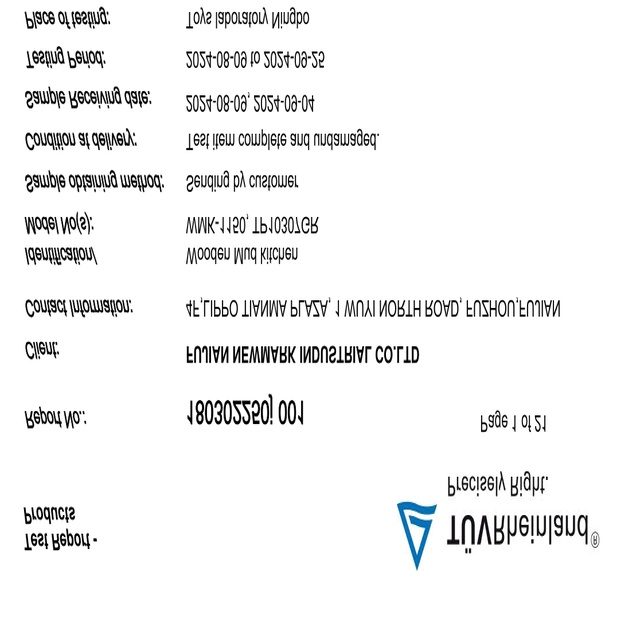tuv_rheinland: (394, 498, 602, 572)
